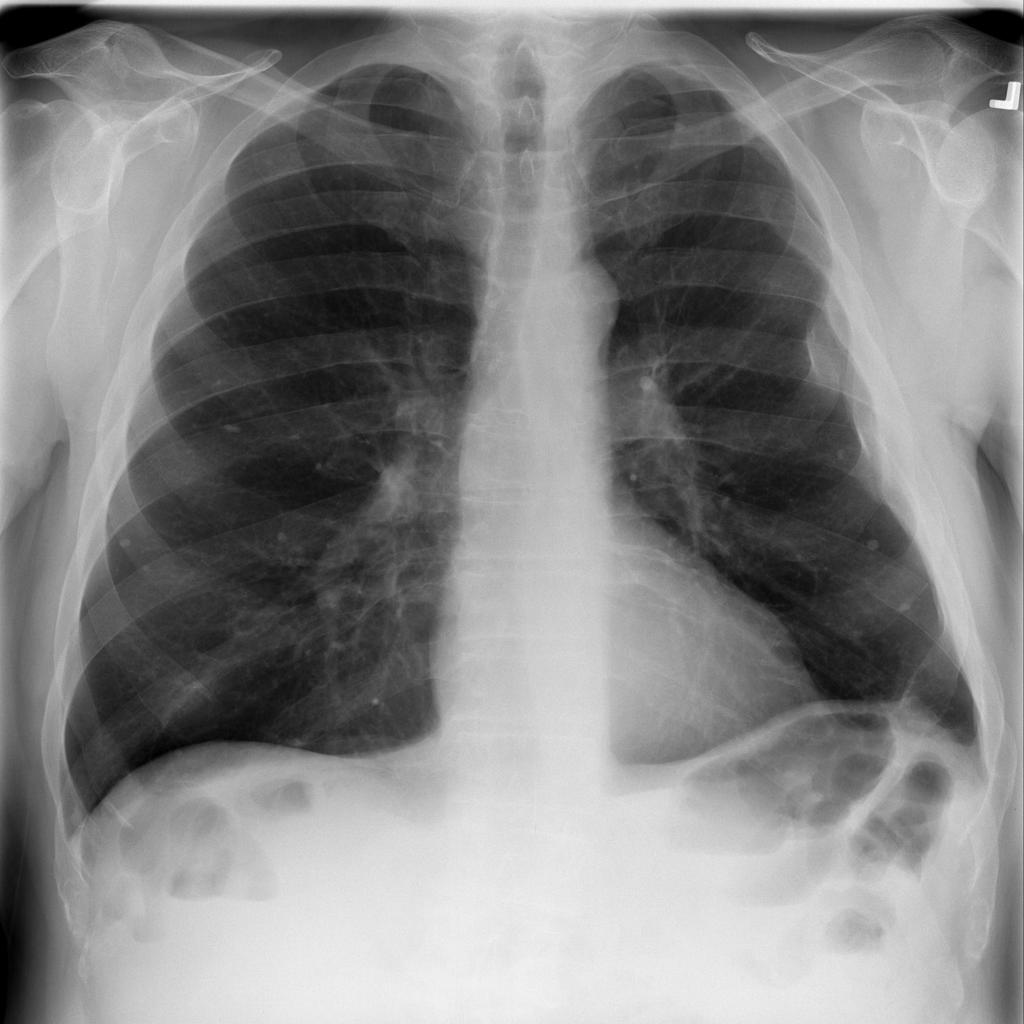nodule: (202, 407, 258, 451), (849, 521, 900, 569)
